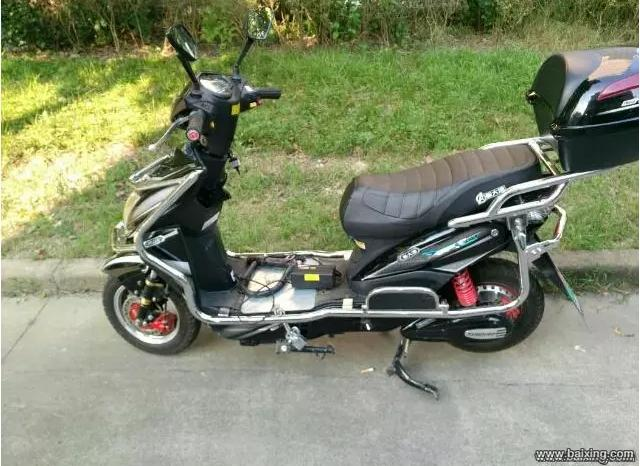电动车: (95, 8, 637, 399)
